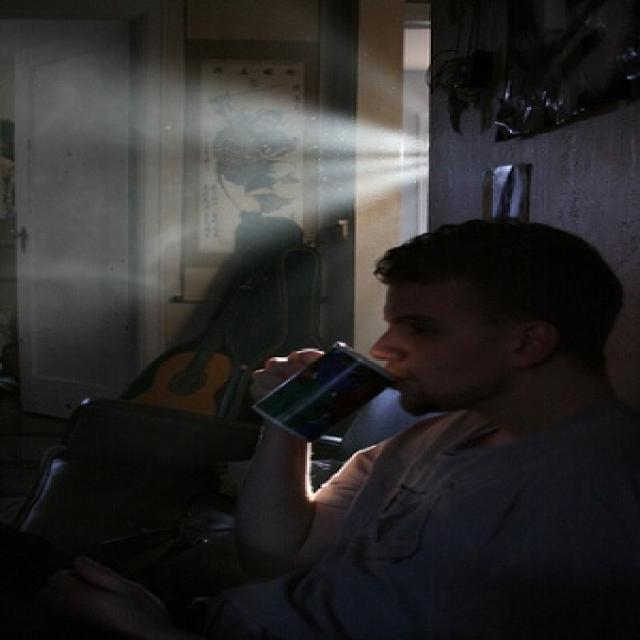Cup: (222, 336, 414, 471)
People: (84, 218, 629, 640)
